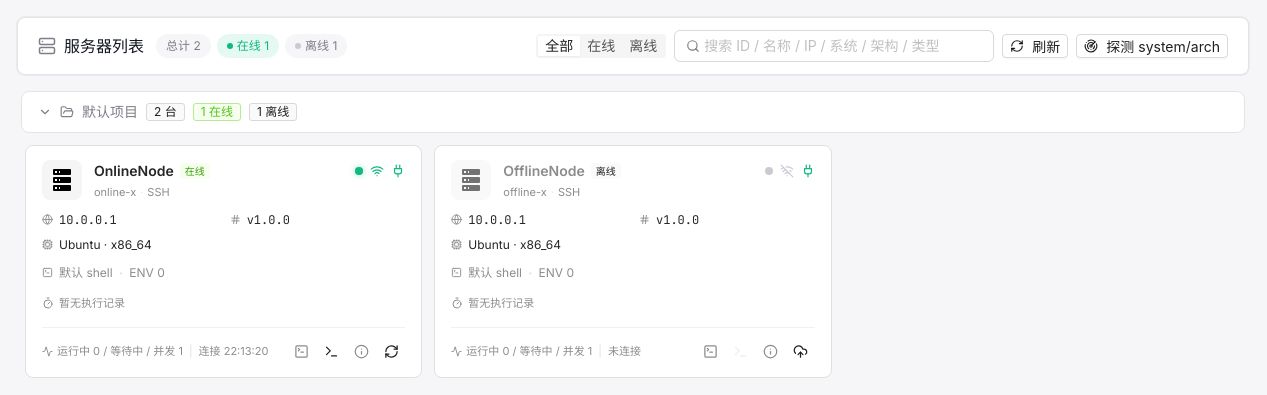
Test case: <ServersPage /> › 状态过滤：选择"在线"仅展示在线 agent
Expected: the text "服务器列表" is shown, [64, 34, 144, 58]
Expected: the text "OnlineNode" is shown, [94, 160, 174, 181]
Click the text "在线" next to "全部". click: {"x": 601, "y": 46}
box: [587, 37, 615, 54]
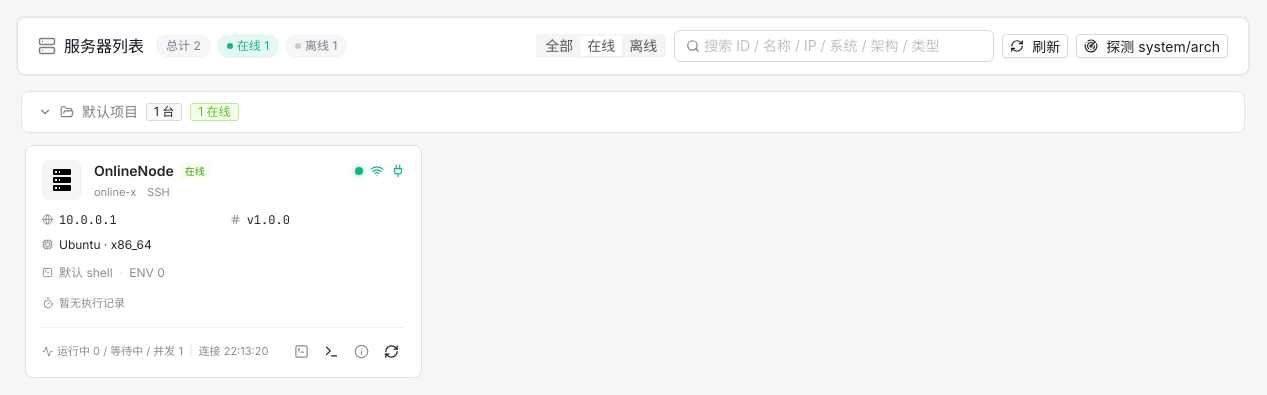
Expected: the text "OnlineNode" is shown, [94, 160, 174, 181]
Expected: the text "OfflineNode" is gone
